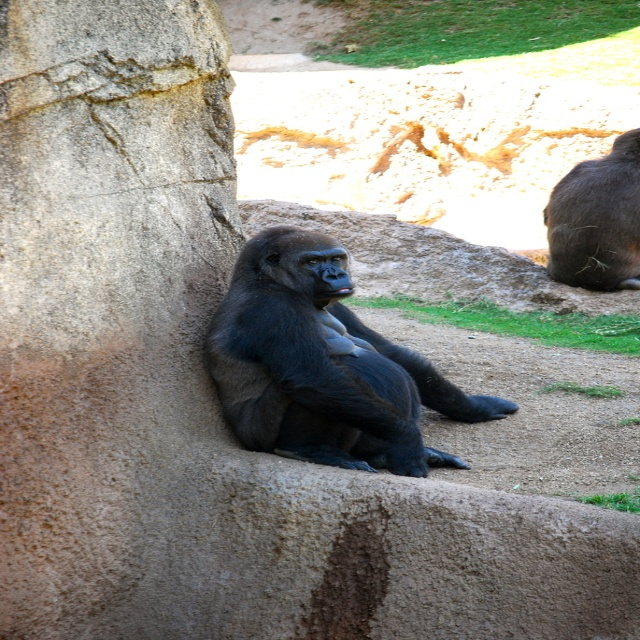Monkey: (204, 228, 517, 480), (538, 122, 639, 293)
